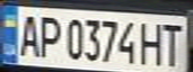0: (63, 15, 84, 61)
3: (81, 16, 103, 62)
4: (115, 17, 139, 65)
7: (100, 17, 118, 63)
A: (15, 11, 42, 58)
H: (136, 19, 166, 66)
P: (33, 11, 63, 58)
T: (157, 20, 187, 66)
